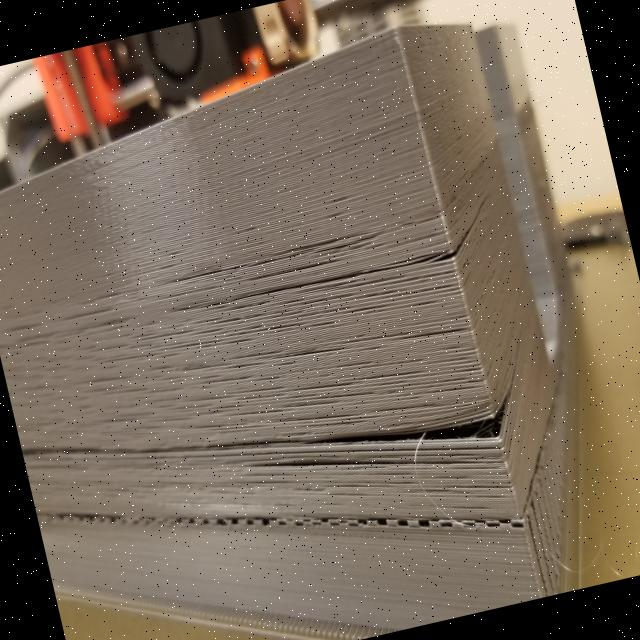cracks: (288, 350, 542, 503), (43, 500, 535, 546), (349, 194, 509, 313)
